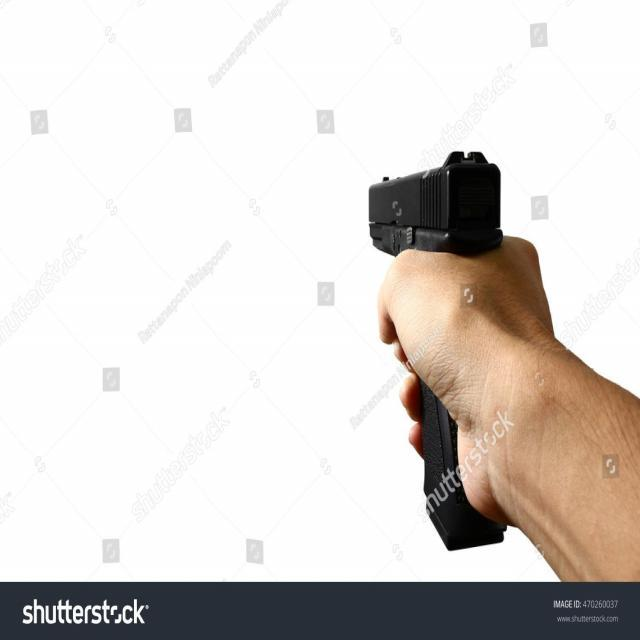gun: (370, 152, 508, 549)
